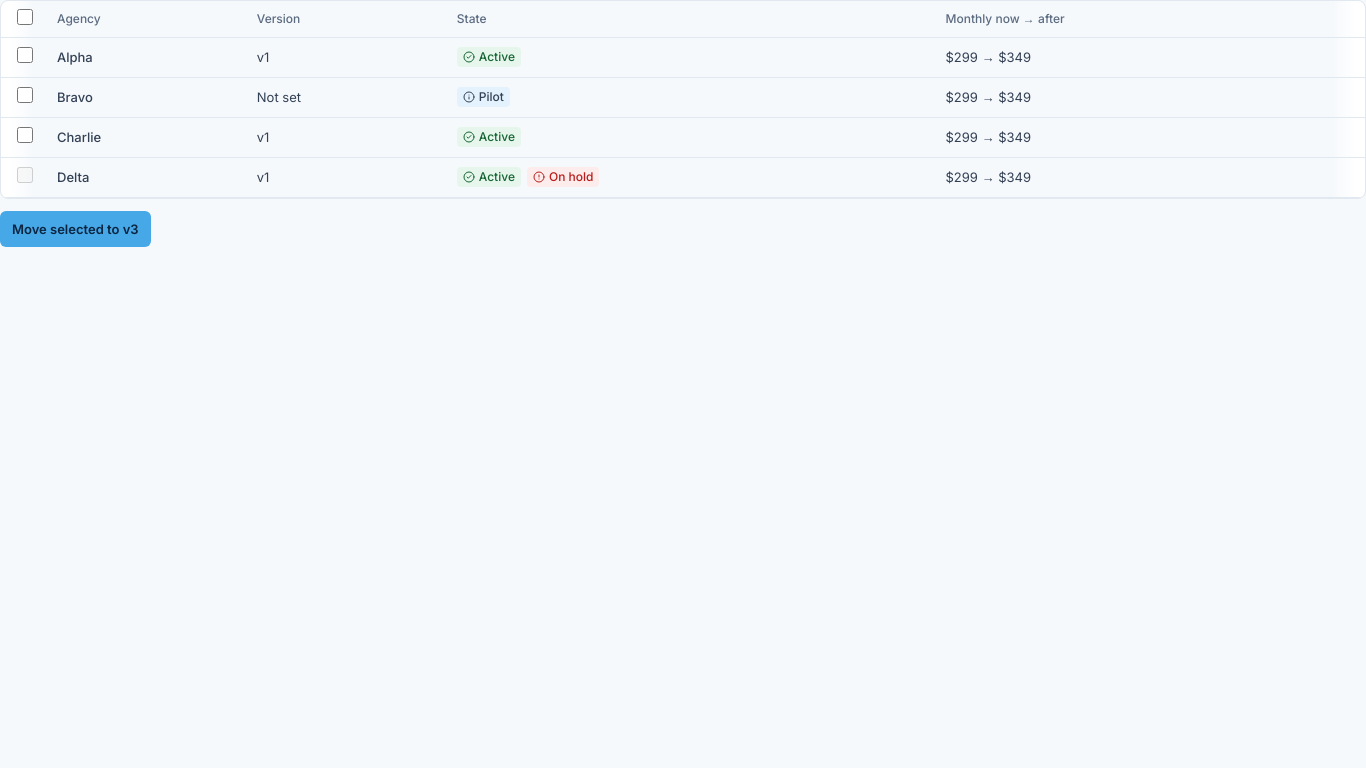
PlanAgencies › a tool refusal shows as an error
Click the checkbox named "Select Alpha" at [25, 55], box [17,47,33,63]
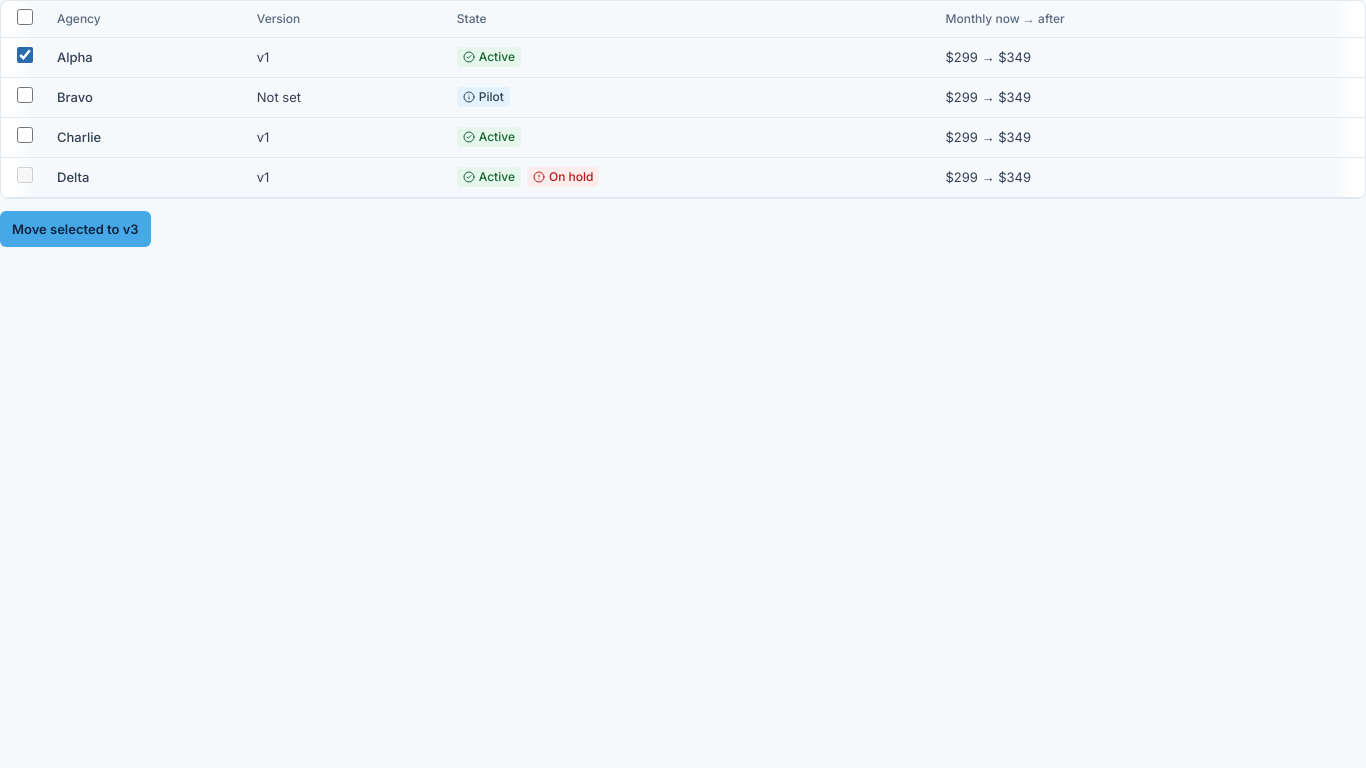
Click the button "Move selected to v3" at [75, 228], box [0,210,151,246]
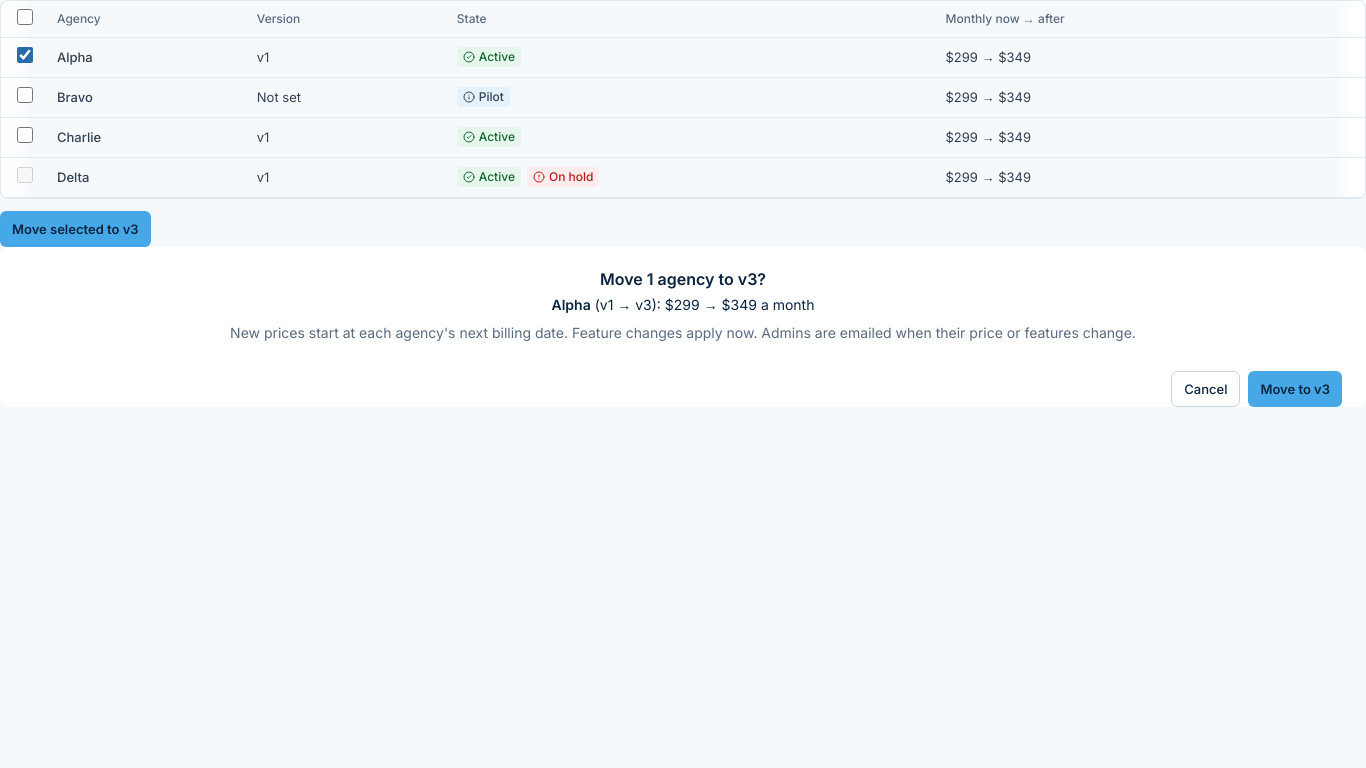
Click the button "Move to v3" at [1295, 388], box [1248,370,1342,406]
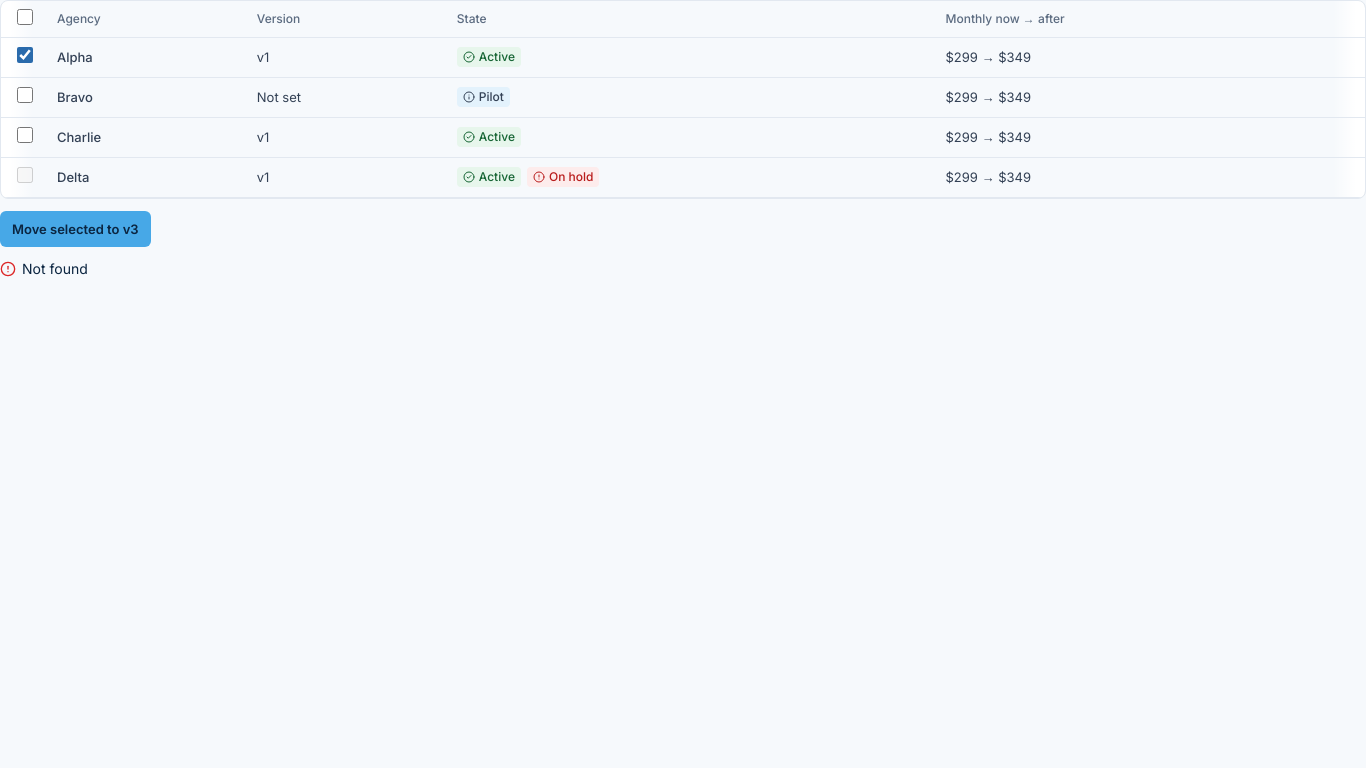
Expected: the text "Not found" is shown, [22,258,88,278]
